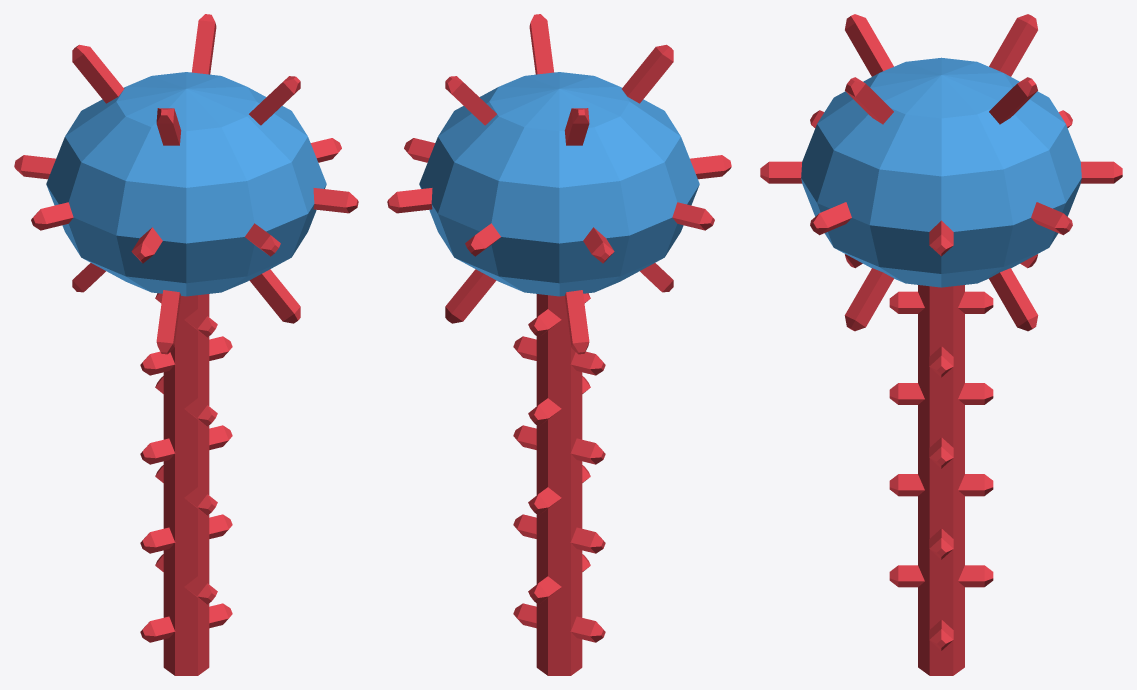
The model's file is plant.fbx.
The picture shows the model from 3 angles, left to right: view 1: azimuth 30°, elevation 25°; view 2: azimuth 150°, elevation 25°; view 3: azimuth 270°, elevation 25°; orthographic projection. The views are drawn at different scales.
Visible parts, largest first — view 1: Sphere, Cylinder, Cylinder.019, Cylinder.031, Cylinder.032, Cylinder.018, Cylinder.017, Cylinder.022, Cylinder.027, Cylinder.020, Cylinder.026, Cylinder.002 (+7 smaller); view 2: Sphere, Cylinder, Cylinder.020, Cylinder.030, Cylinder.029, Cylinder.017, Cylinder.018, Cylinder.024, Cylinder.027, Cylinder.019, Cylinder.028, Cylinder.002 (+7 smaller); view 3: Sphere, Cylinder, Cylinder.030, Cylinder.031, Cylinder.019, Cylinder.020, Cylinder.017, Cylinder.018, Cylinder.021, Cylinder.025, Cylinder.022, Cylinder.024 (+9 smaller).
Boxes of the visible parts, x1,y1,x2,y2 form: Sphere: [46, 72, 326, 296]; Cylinder: [163, 294, 209, 675]; Cylinder.019: [72, 44, 123, 103]; Cylinder.031: [249, 269, 300, 323]; Cylinder.032: [156, 290, 180, 354]; Cylinder.018: [191, 14, 216, 74]; Cylinder.017: [249, 76, 300, 125]; Cylinder.022: [313, 188, 358, 213]; Cylinder.027: [31, 202, 73, 230]; Cylinder.020: [156, 108, 181, 145]; Cylinder.026: [14, 155, 55, 179]; Cylinder.002: [140, 616, 175, 642]; Sphere: [419, 72, 699, 296]; Cylinder: [536, 294, 582, 675]; Cylinder.020: [622, 44, 673, 103]; Cylinder.030: [445, 269, 496, 323]; Cylinder.029: [565, 290, 589, 354]; Cylinder.017: [529, 14, 554, 74]; Cylinder.018: [445, 76, 496, 125]; Cylinder.024: [387, 188, 432, 213]; Cylinder.027: [672, 202, 714, 230]; Cylinder.019: [564, 108, 589, 145]; Cylinder.028: [690, 155, 731, 179]; Cylinder.002: [570, 616, 605, 642]; Sphere: [801, 57, 1081, 287]; Cylinder: [918, 285, 964, 675]; Cylinder.030: [989, 268, 1038, 331]; Cylinder.031: [844, 268, 893, 331]; Cylinder.019: [989, 14, 1037, 76]; Cylinder.020: [845, 14, 893, 76]; Cylinder.017: [845, 77, 893, 124]; Cylinder.018: [989, 77, 1037, 124]; Cylinder.021: [760, 161, 801, 183]; Cylinder.025: [1081, 161, 1122, 183]; Cylinder.022: [810, 202, 851, 235]; Cylinder.024: [1031, 202, 1072, 235].
Size of the model in its own units: 252 by 476 by 252.
